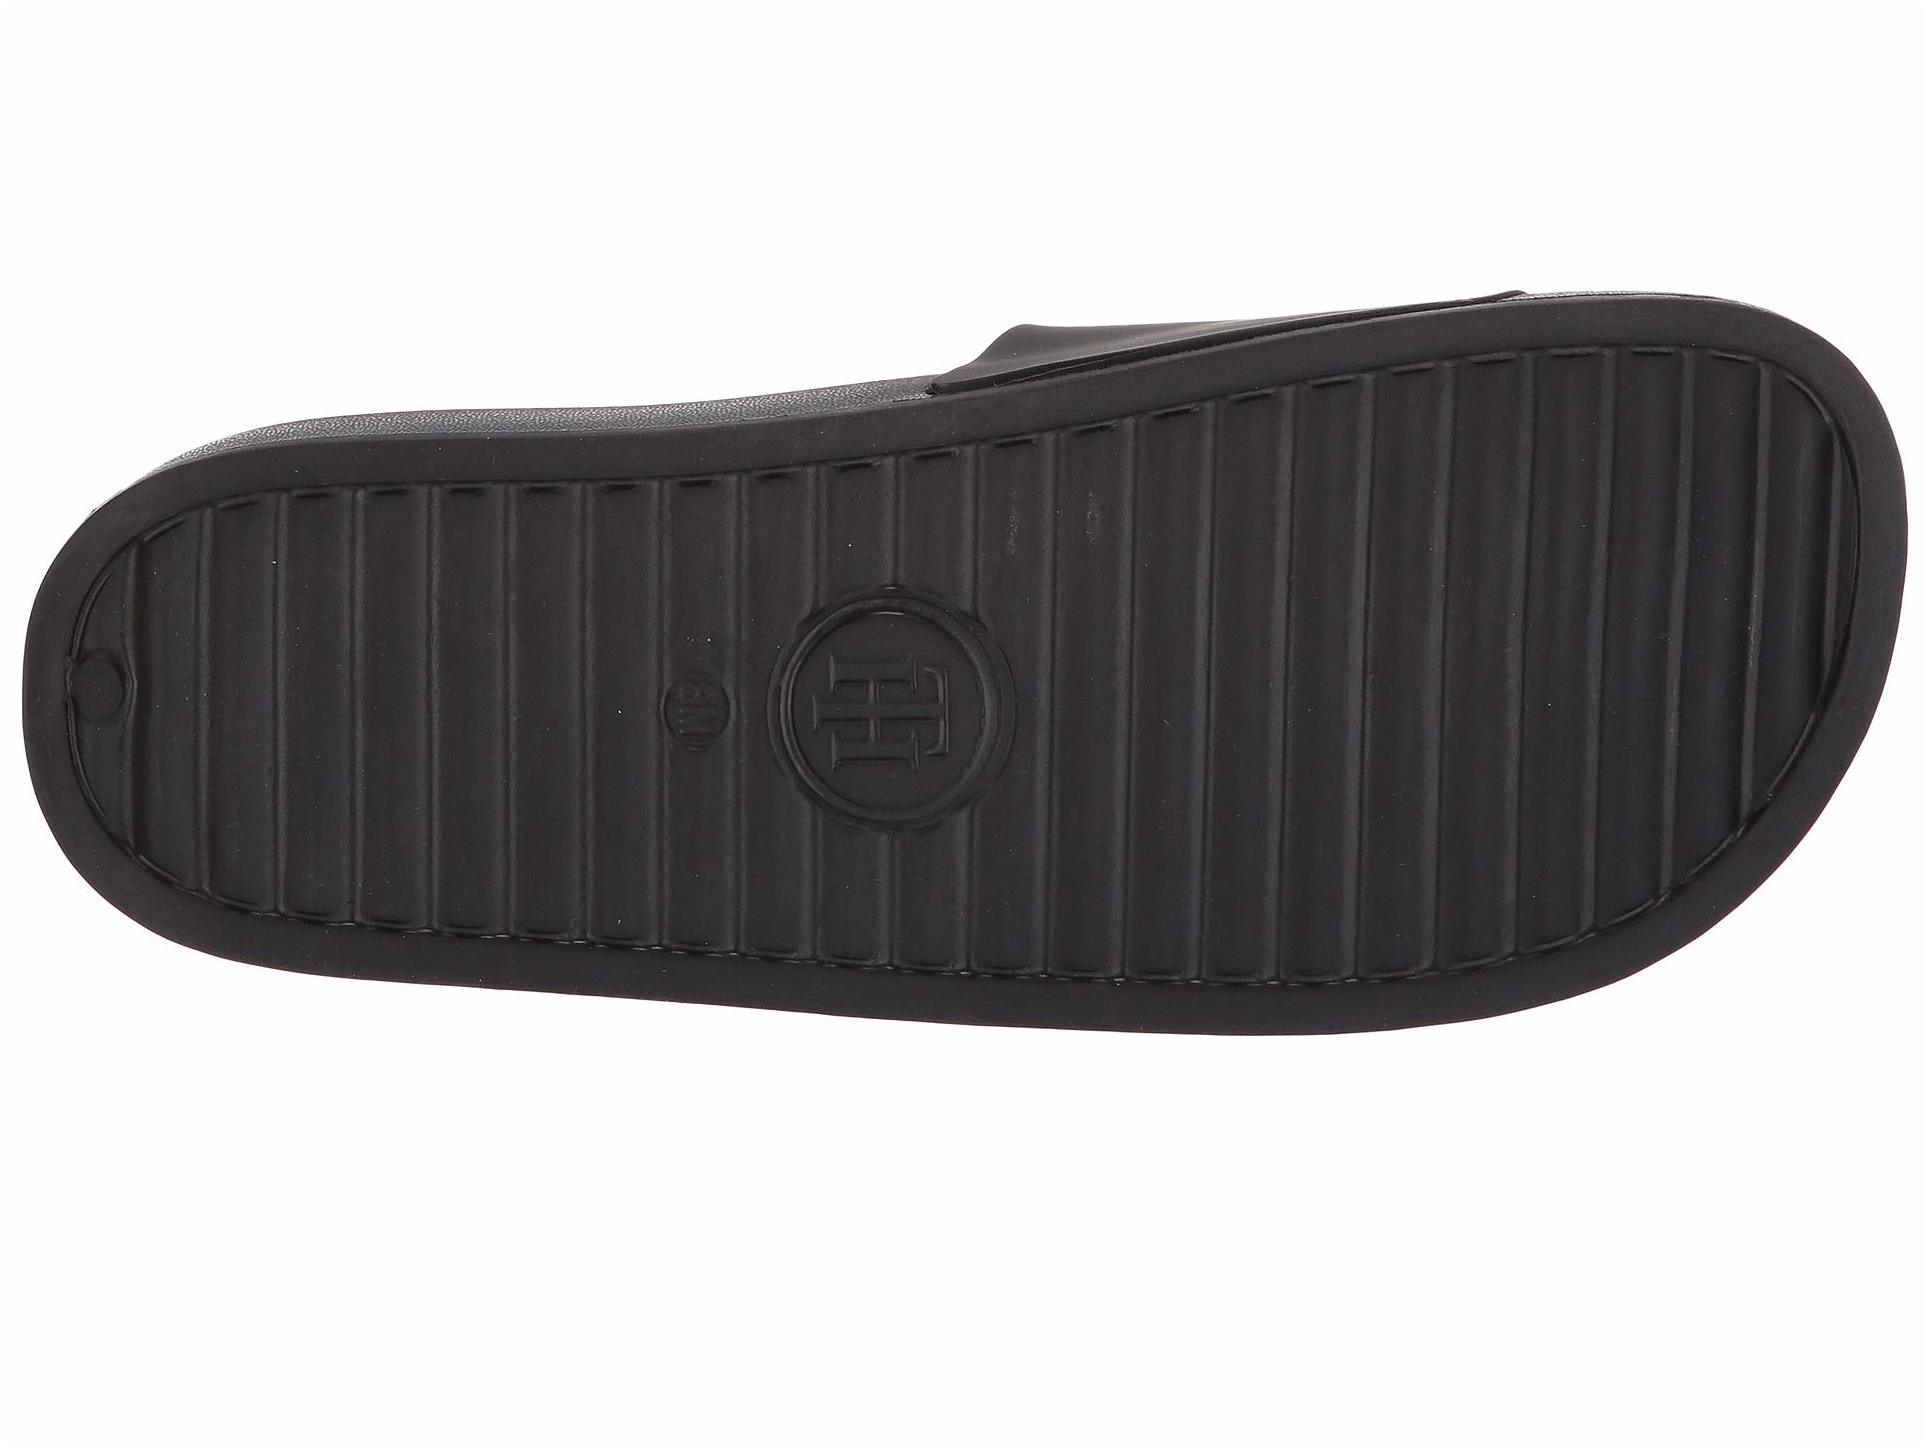circle: (586, 519, 1066, 973)
line: (586, 519, 1066, 973)
text: (586, 519, 1066, 973)
